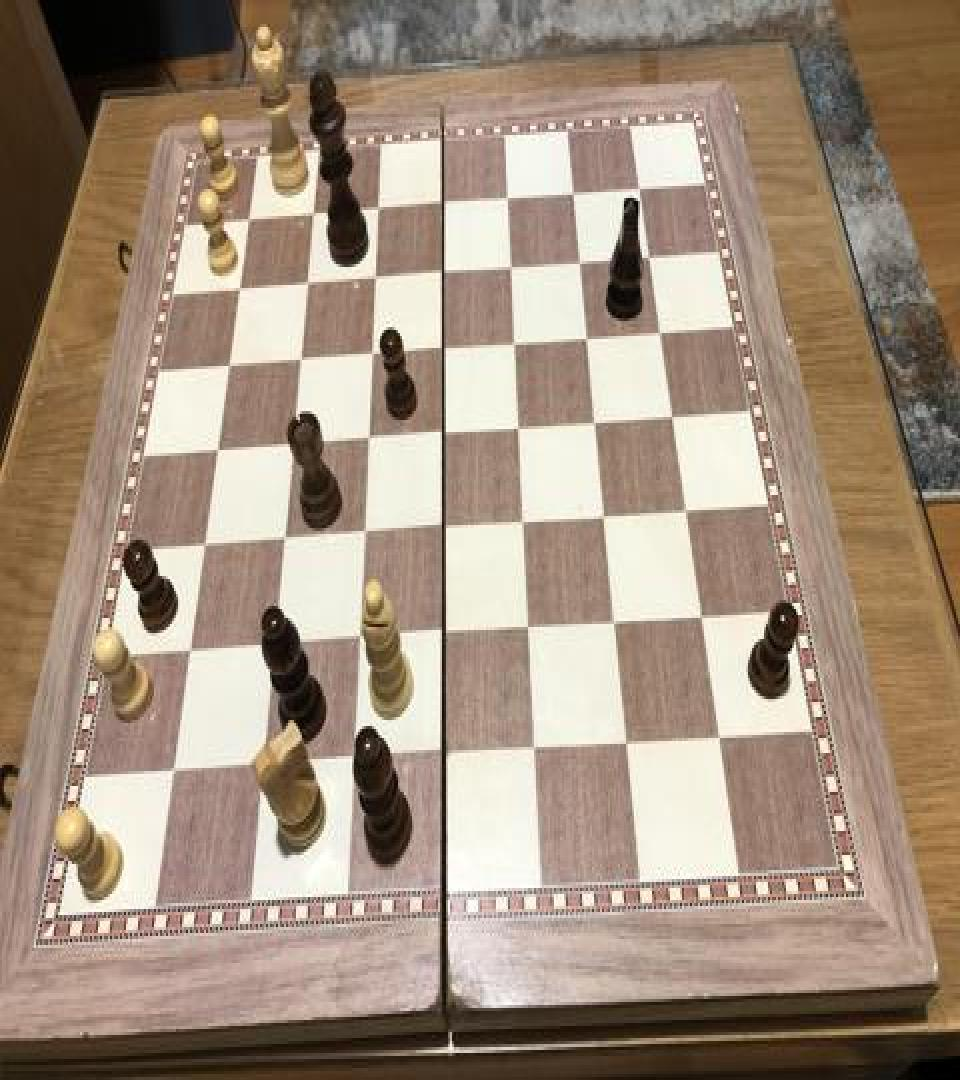xcorner: (521, 610, 545, 647), (629, 171, 653, 207), (563, 176, 587, 212), (498, 182, 522, 218), (432, 186, 456, 222), (367, 192, 391, 228), (302, 196, 326, 232), (237, 202, 261, 238), (639, 238, 663, 274), (570, 244, 594, 280), (501, 250, 525, 286), (433, 255, 457, 291), (364, 261, 388, 297), (296, 267, 320, 303), (228, 272, 252, 308), (650, 315, 674, 351), (578, 321, 602, 357), (506, 326, 530, 362), (433, 332, 457, 368), (361, 338, 385, 374), (218, 350, 242, 386), (663, 399, 687, 435), (586, 405, 610, 441), (510, 411, 534, 447), (434, 417, 458, 453), (358, 423, 382, 459), (282, 429, 306, 465), (207, 435, 231, 471), (677, 492, 701, 528), (596, 498, 620, 534), (515, 506, 539, 542), (435, 512, 459, 548), (354, 518, 378, 554), (274, 524, 298, 560), (194, 530, 218, 566), (692, 598, 716, 634), (607, 604, 631, 640), (435, 618, 459, 654), (350, 624, 374, 660), (265, 630, 289, 666), (180, 636, 204, 672), (710, 717, 734, 753), (619, 724, 643, 760), (527, 730, 551, 766), (436, 738, 460, 774), (345, 744, 369, 780), (255, 752, 279, 788), (164, 758, 188, 794), (290, 344, 314, 379)
